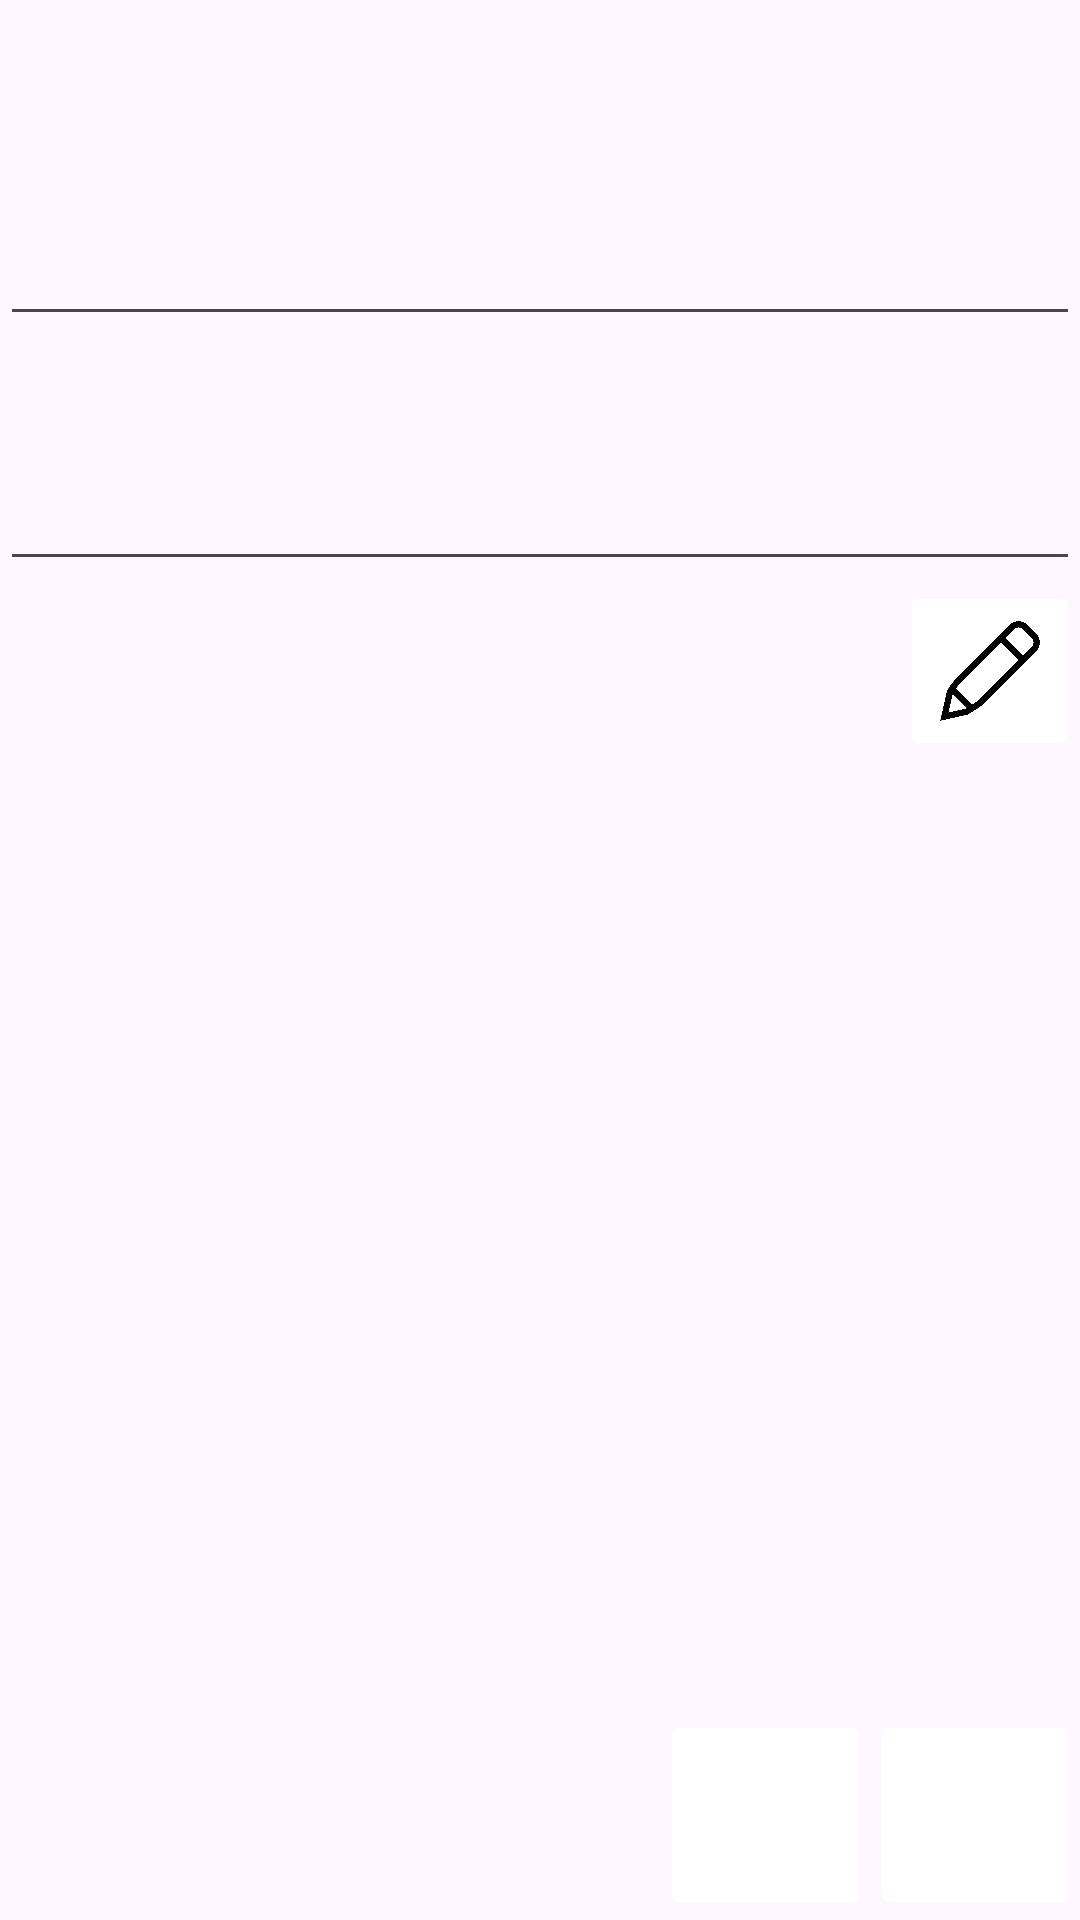

Where icons sit on this 1080px x 1920px app screen, as (x1, y1, x2, y2):
pen: (940, 621, 1040, 721)
